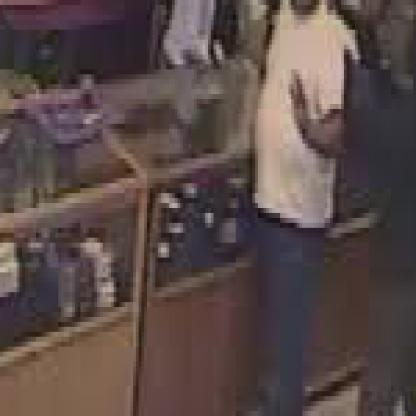gun: (344, 10, 388, 84)
